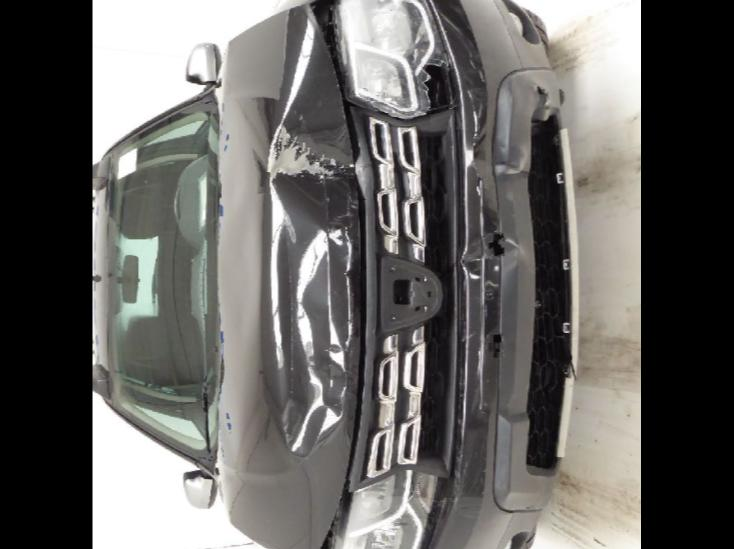Broken part: (210, 0, 371, 549), (414, 104, 470, 472), (552, 126, 580, 458), (419, 474, 454, 549)
Cracked: (332, 0, 454, 118)
Dent: (260, 74, 364, 460), (458, 206, 536, 308), (462, 86, 528, 200), (476, 319, 524, 374), (526, 68, 562, 120)
Flaking: (334, 278, 360, 414)
Missing part: (382, 256, 440, 328), (488, 226, 508, 256), (490, 332, 506, 346), (492, 346, 506, 360)
Paint chip: (268, 126, 342, 178), (354, 156, 374, 178)
Scratch: (444, 10, 488, 136), (448, 424, 484, 516), (470, 322, 495, 418), (460, 264, 522, 292), (472, 169, 490, 214)
